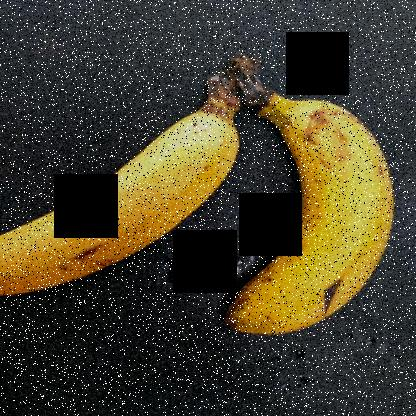freshripe: (0, 116, 257, 316)
ripe: (224, 80, 415, 358)
